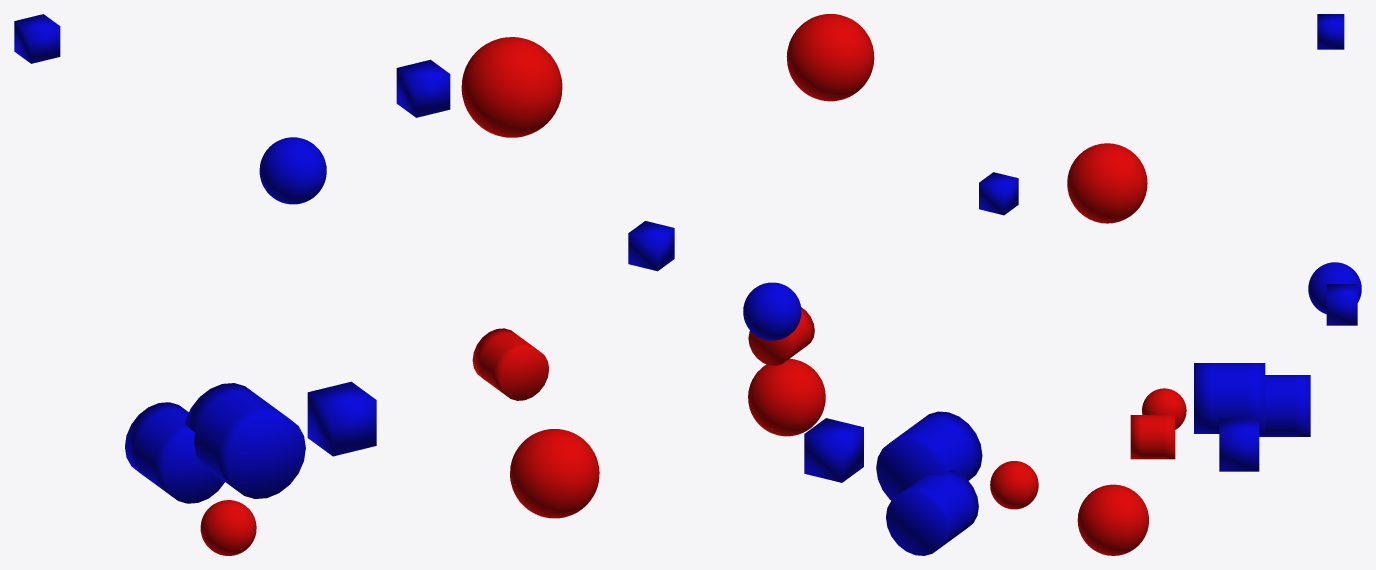
The model's file is scene_open3d.gltf.
3 renders of one model, left to right at view 1: azimuth 30°, elevation 25°; view 2: azimuth 150°, elevation 25°; view 3: azimuth 270°, elevation 25°, orthographic. The views are drawn at different scales.
Size of the model in its own units: 1.79 by 1.91 by 1.32.
